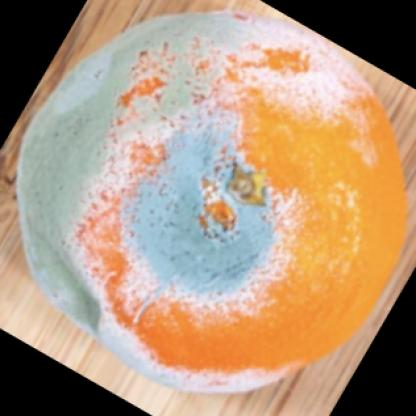rotten: (18, 10, 410, 391)
